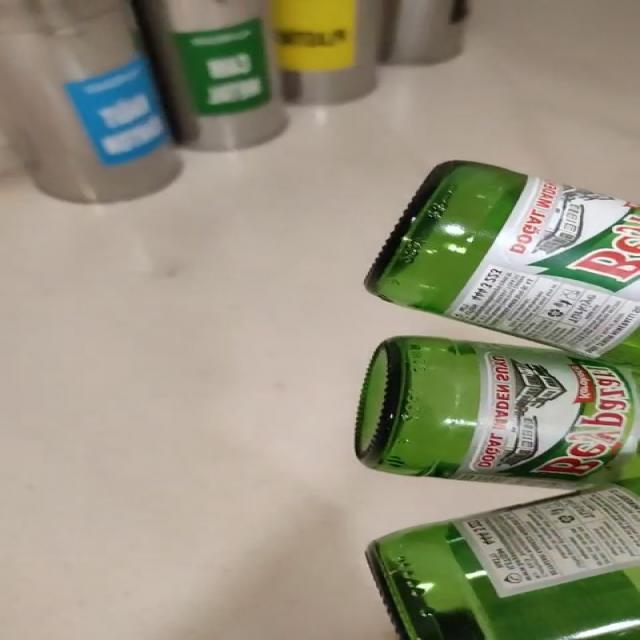Glass: (356, 161, 640, 640)
